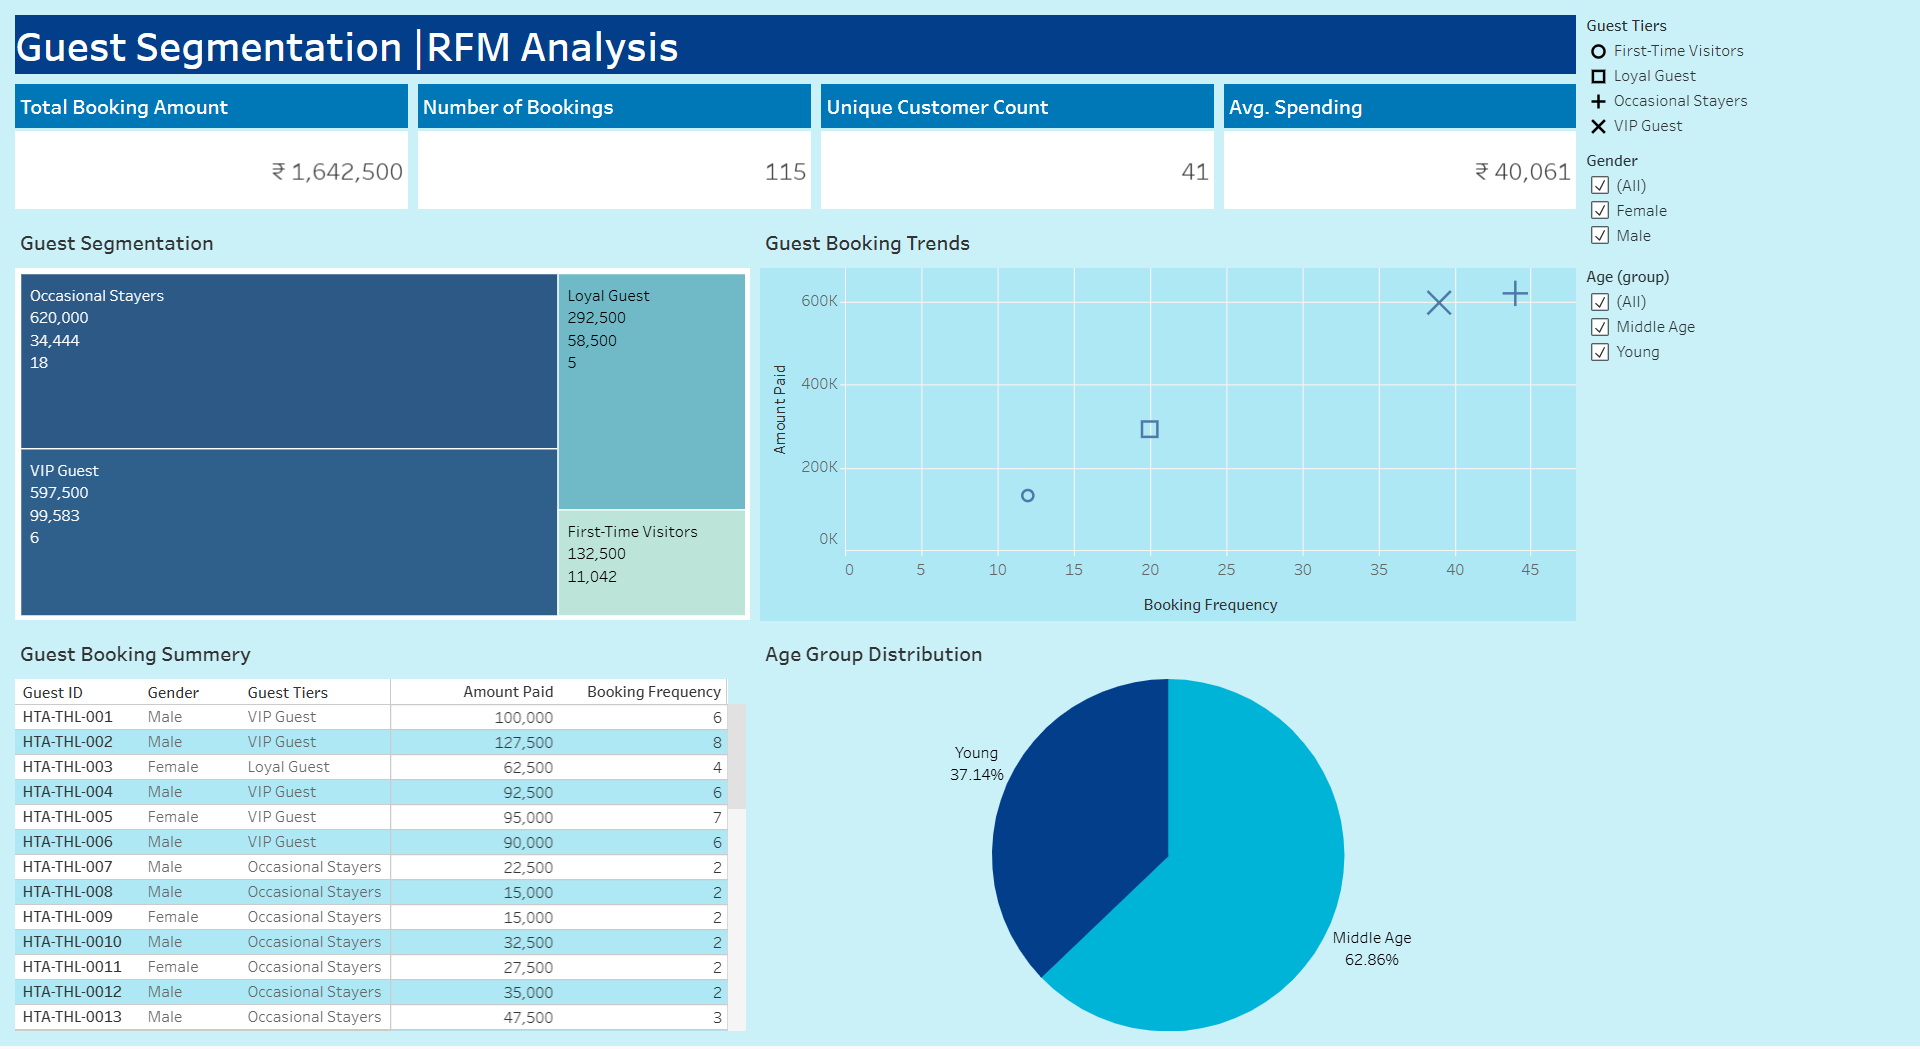

The dashboard page shown, as its layout file describes it:
{"tool":"tableau","page":{"name":"Dashboard 1","canvas":[1000,1000],"units":"permille","ordinal":0},"visuals":[{"type":"text","box":[4.8,10,818.9,66.2]},{"type":"legend","title":"Scatter Plot","param":"[federated.1bezld400k7zi91c5bcqm0ke2p20].[none:Guest Tiers:nk]","box":[823.8,10,171.4,142.3]},{"type":"worksheet","title":"Total Booking Amount","mark":"Automatic","box":[4.8,76.2,210,129.8]},{"type":"worksheet","title":"Number of Bookings","mark":"Automatic","box":[214.8,76.2,210,129.8]},{"type":"worksheet","title":"Unique Guest","mark":"Automatic","box":[424.9,76.2,210,129.8]},{"type":"worksheet","title":"Average Spending","mark":"Automatic","box":[634.9,76.2,188.9,129.8]},{"type":"filter","title":"Guest Table","param":"[federated.1bezld400k7zi91c5bcqm0ke2p20].[none:Gender:nk]","box":[823.8,152.3,171.4,131.1]},{"type":"worksheet","title":"Tree Map","mark":"Automatic","box":[4.8,206,388.6,392]},{"type":"worksheet","title":"Scatter Plot","mark":"Automatic","rows":["Amount Paid"],"cols":["Booking Frequency"],"box":[393.5,206,430.3,392]},{"type":"filter","title":"Pie Chart","param":"[federated.1bezld400k7zi91c5bcqm0ke2p20].[Age (group)]","box":[823.8,283.4,171.4,131.1]},{"type":"worksheet","title":"Guest Table","mark":"Automatic","rows":["Guest ID","Gender","Guest Tiers"],"box":[4.8,598,388.6,392]},{"type":"worksheet","title":"Pie Chart","mark":"Pie","box":[393.5,598,430.3,392]}]}

Visuals, with their boxes on the dashboard's canvas, which has no fixed pixel size, in thousandths of its width and height (x1, y1, x2, y2). These are canvas units, not pixel positions in the 1920x1049 screenshot, which may show the page scaled, cropped or inside an application window:
text: (left=5, top=10, right=824, bottom=76)
"Scatter Plot" legend: (left=824, top=10, right=995, bottom=152)
"Total Booking Amount" worksheet: (left=5, top=76, right=215, bottom=206)
"Number of Bookings" worksheet: (left=215, top=76, right=425, bottom=206)
"Unique Guest" worksheet: (left=425, top=76, right=635, bottom=206)
"Average Spending" worksheet: (left=635, top=76, right=824, bottom=206)
"Guest Table" filter: (left=824, top=152, right=995, bottom=283)
"Tree Map" worksheet: (left=5, top=206, right=393, bottom=598)
"Scatter Plot" worksheet: (left=394, top=206, right=824, bottom=598)
"Pie Chart" filter: (left=824, top=283, right=995, bottom=414)
"Guest Table" worksheet: (left=5, top=598, right=393, bottom=990)
"Pie Chart" worksheet (Pie marks): (left=394, top=598, right=824, bottom=990)
